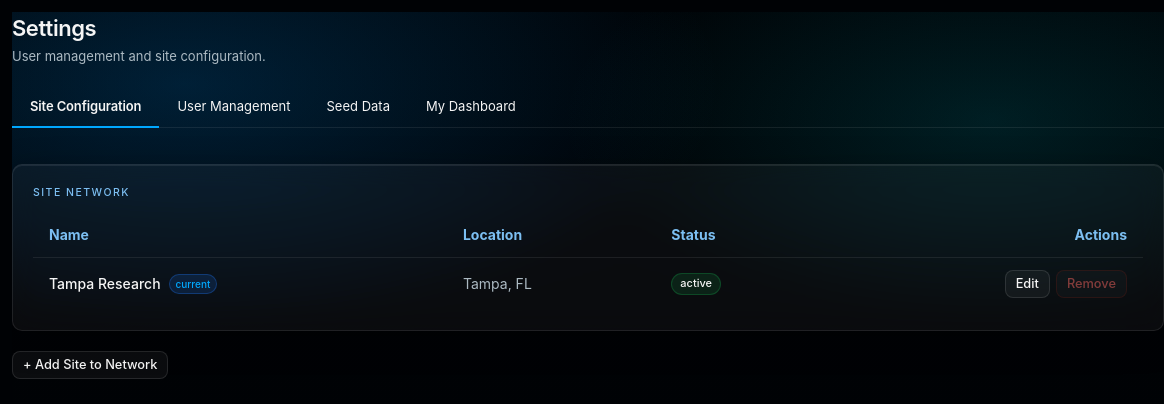
Test case: Settings › renders user rows in the User Management tab
Click the tab "User Management".
click(234, 107)  # box [159,86,308,128]
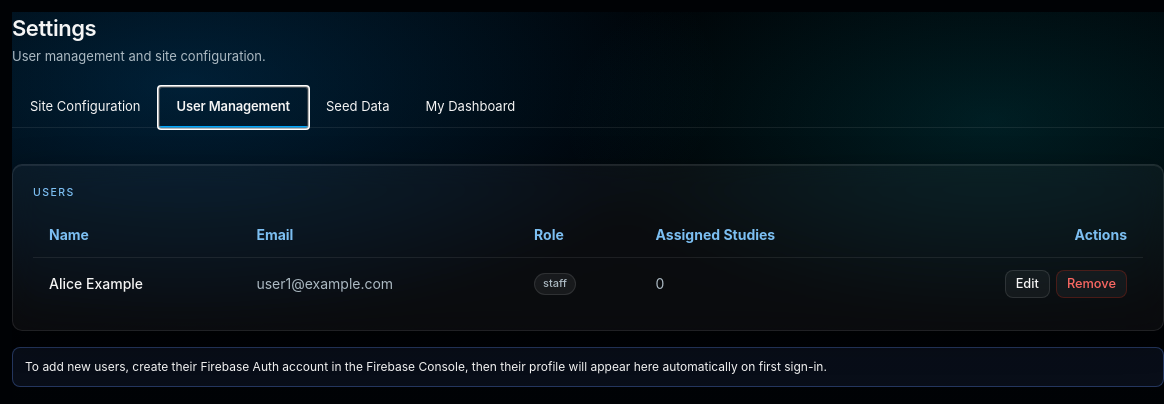
Check: the text "Alice Example" is shown, box [33,257,240,310]
Check: the text "user1@example.com" is shown, box [240,257,518,310]
